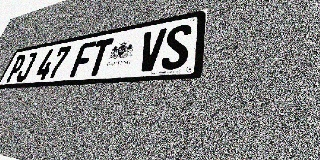4: (33, 48, 59, 80)
7: (46, 46, 72, 79)
F: (69, 41, 97, 78)
J: (14, 52, 38, 82)
P: (4, 54, 28, 83)
S: (160, 23, 192, 70)
T: (85, 38, 114, 76)
V: (136, 28, 167, 72)
